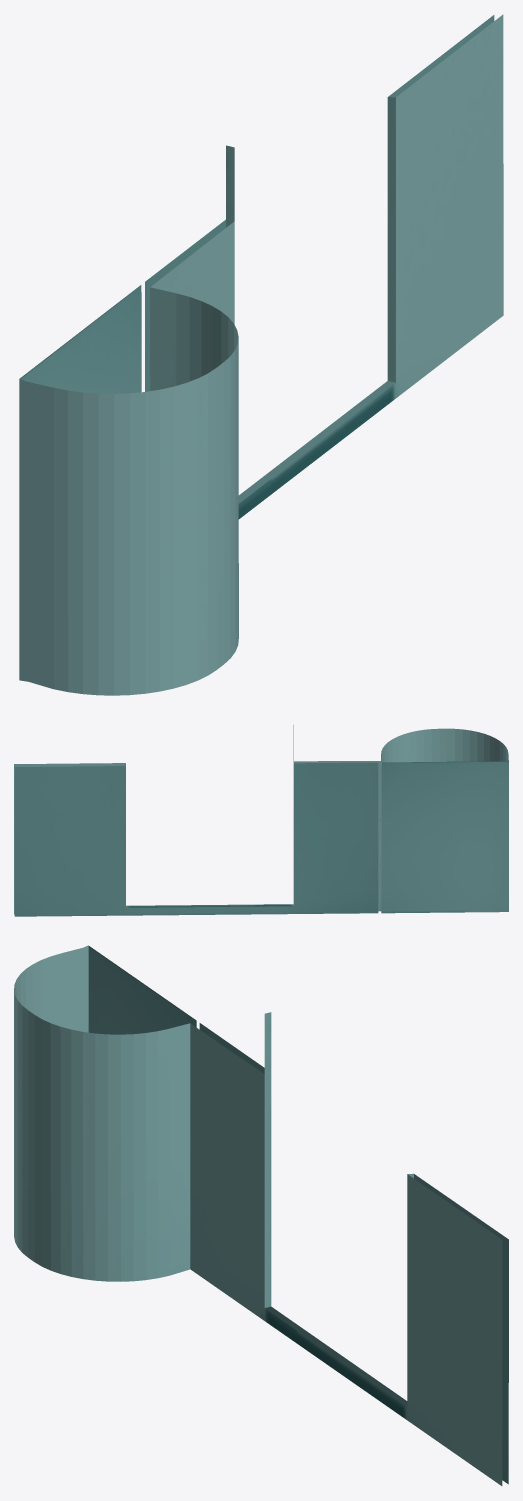
File: structure_09.glb
3 views of the same model, one above another, from view 1: azimuth 30°, elevation 25°; view 2: azimuth 150°, elevation 25°; view 3: azimuth 270°, elevation 25° (orthographic). The views are drawn at different scales.
Parts seen in each view (by area): view 1: Structure.008; view 2: Structure.008; view 3: Structure.008.
Boxes of the visible parts, x1,y1,x2,y2 form: Structure.008: (19, 14, 503, 695); Structure.008: (14, 725, 508, 916); Structure.008: (14, 945, 508, 1485).
Bounding box in the file's own units: 8.88 × 4.34 × 6.31.
Materials: 1 (1 with a texture image).
